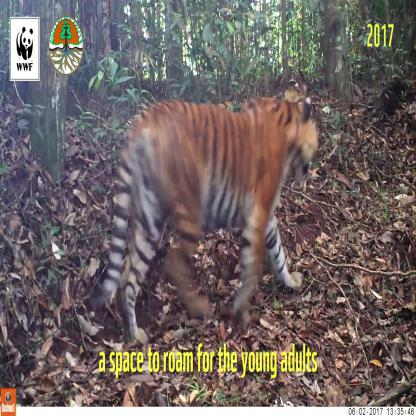Tiger: (96, 72, 323, 342)
